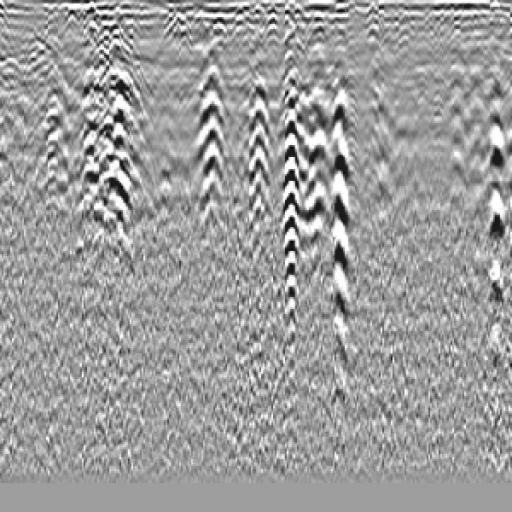metalic: (64, 24, 143, 264)
